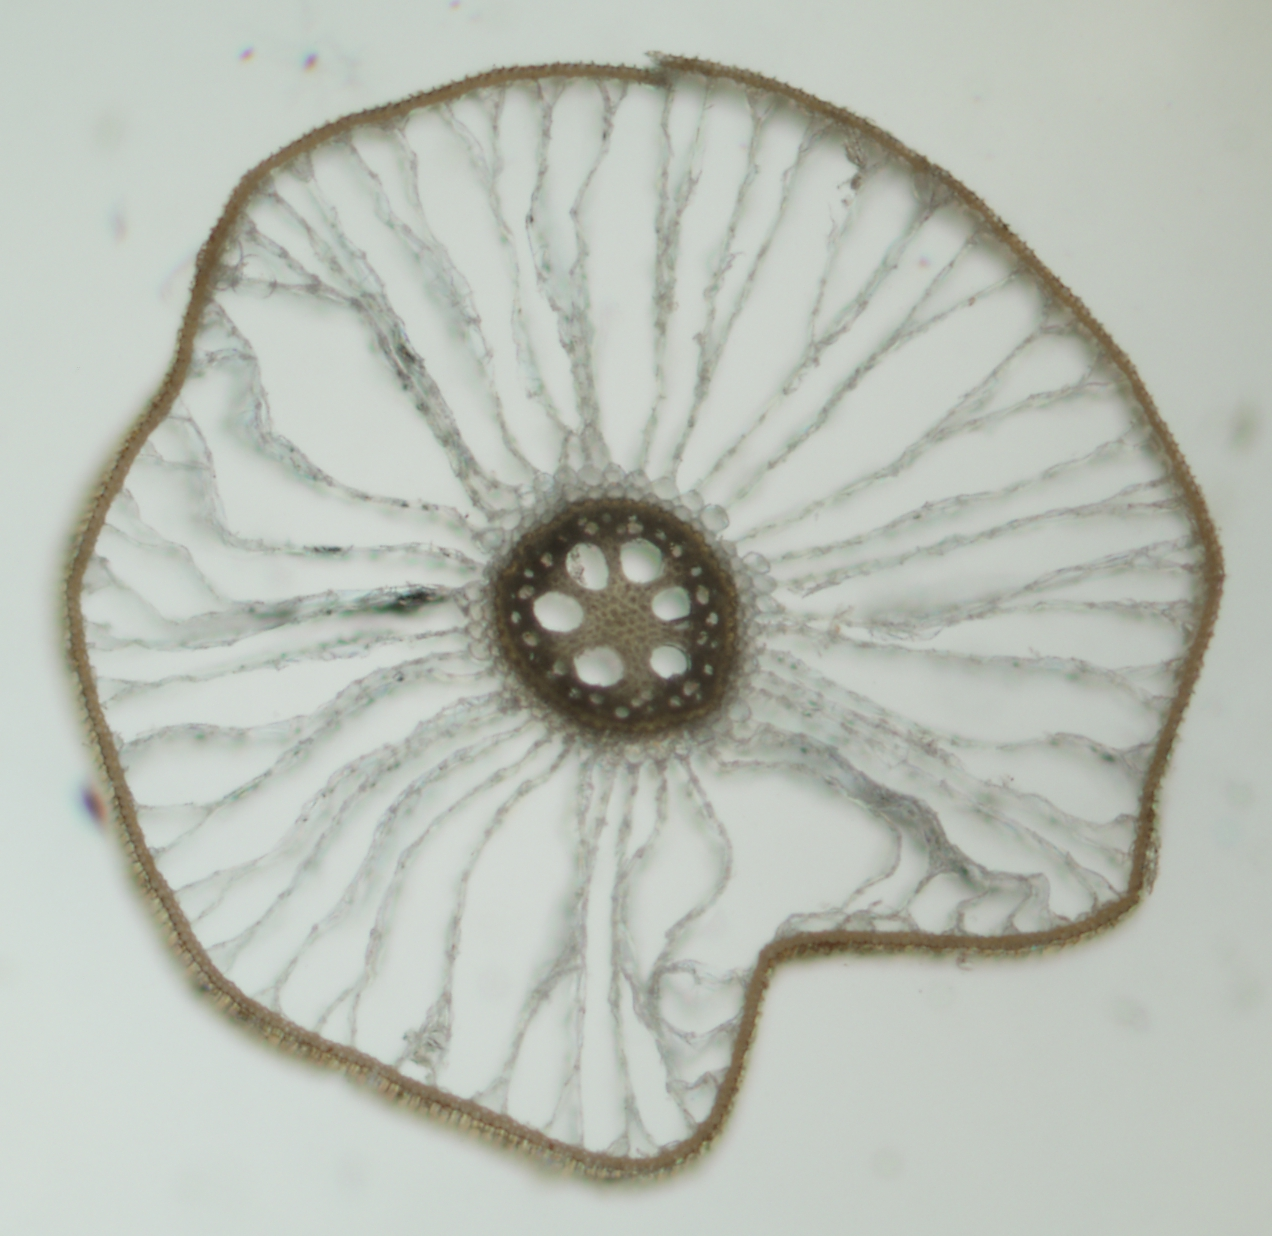lm: (532, 588, 584, 630), (574, 644, 624, 687), (619, 537, 666, 583), (564, 542, 608, 591), (648, 643, 691, 679), (650, 585, 691, 620)
